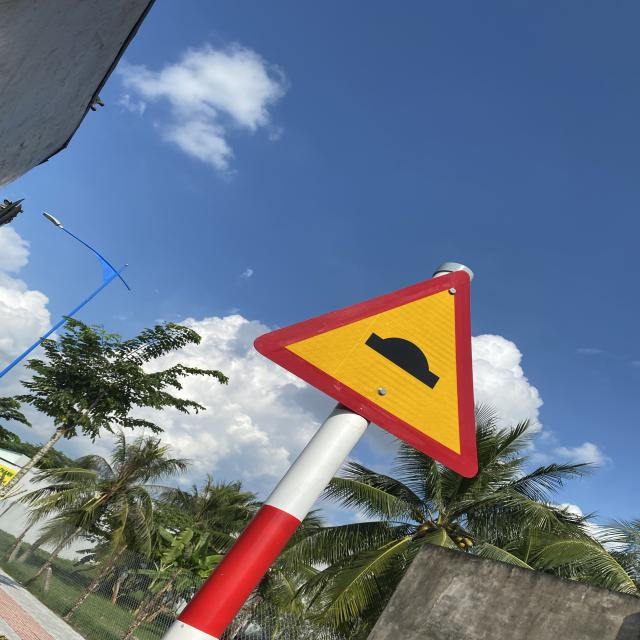Duong_Cong_Ben_Phai: (254, 270, 480, 480)
